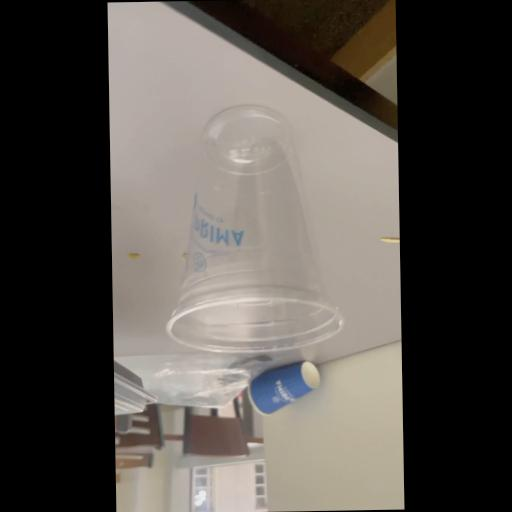lp_paper_cup: (242, 356, 320, 417)
lp_plastic_cup: (162, 108, 346, 362)
